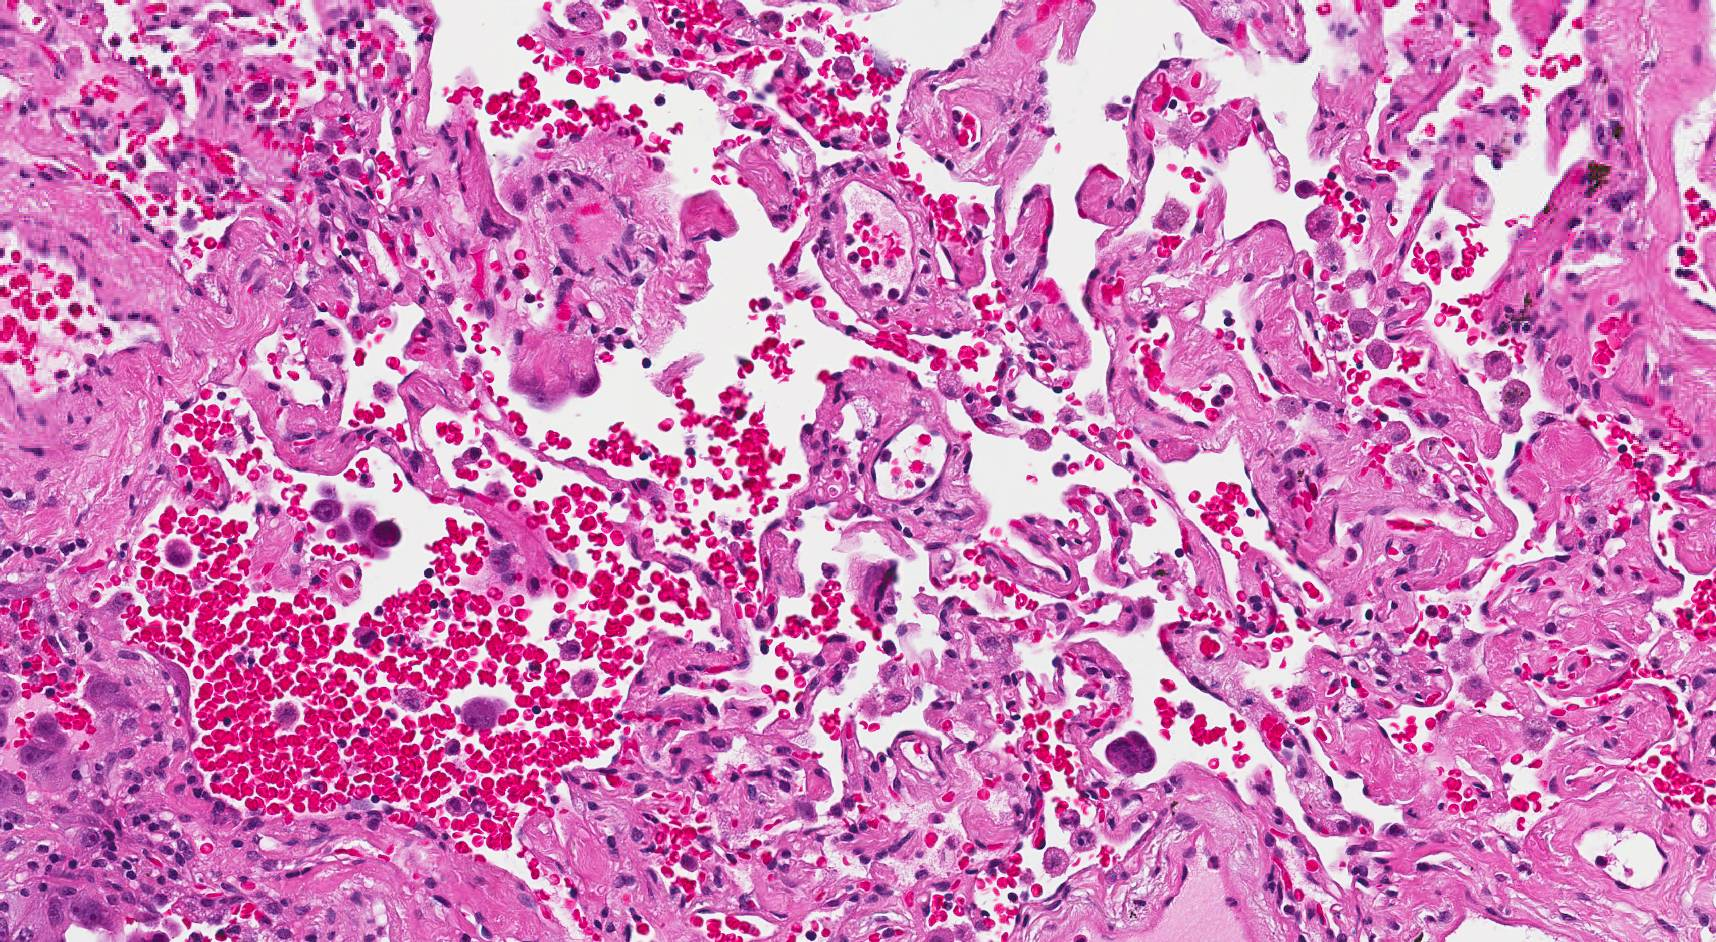stas: (305, 496, 407, 561), (1105, 731, 1158, 778)
